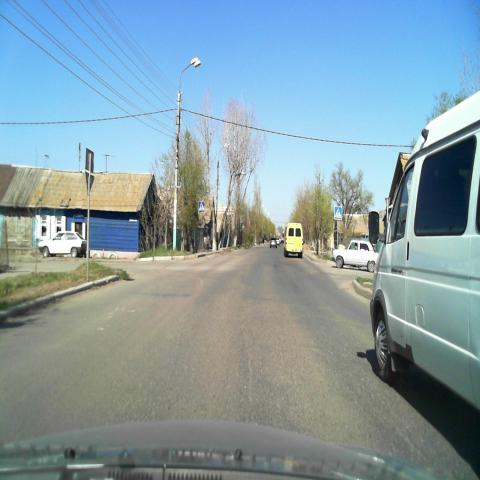5_19_1: (334, 206, 342, 220), (198, 201, 206, 212)
